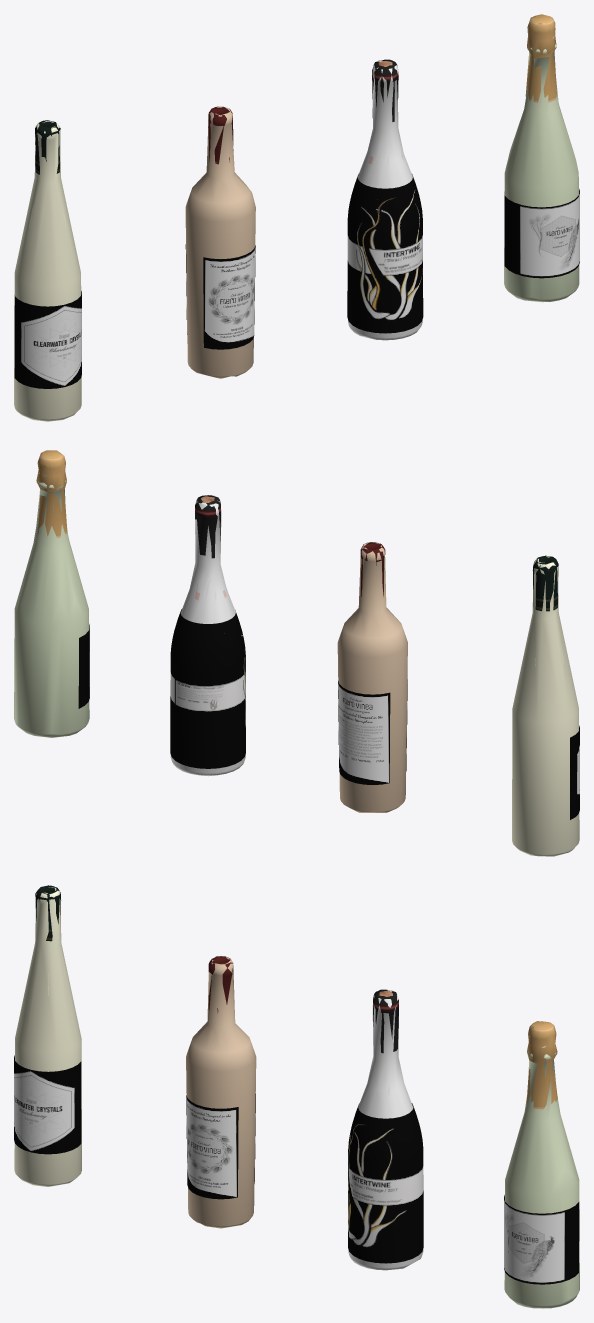
Rendered from wine_bottles_01.glb.
3 renders of one model, top to bottom at view 1: azimuth 30°, elevation 25°; view 2: azimuth 150°, elevation 25°; view 3: azimuth 330°, elevation 25°, orthographic.
Visible parts, largest first — view 1: wine_bottles_01_bordeaux, wine_bottles_01_burgundy, wine_bottles_01_alsace, wine_bottles_01_champagne; view 2: wine_bottles_01_bordeaux, wine_bottles_01_burgundy, wine_bottles_01_alsace, wine_bottles_01_champagne; view 3: wine_bottles_01_bordeaux, wine_bottles_01_burgundy, wine_bottles_01_alsace, wine_bottles_01_champagne.
Part boxes in pixels (left/top/right/bottom): wine_bottles_01_bordeaux: left=14, top=14, right=579, bottom=421; wine_bottles_01_burgundy: left=347, top=157, right=423, bottom=333; wine_bottles_01_alsace: left=14, top=291, right=81, bottom=388; wine_bottles_01_champagne: left=504, top=189, right=579, bottom=278; wine_bottles_01_bordeaux: left=14, top=450, right=579, bottom=856; wine_bottles_01_burgundy: left=170, top=587, right=245, bottom=768; wine_bottles_01_alsace: left=535, top=659, right=579, bottom=819; wine_bottles_01_champagne: left=78, top=624, right=89, bottom=708; wine_bottles_01_bordeaux: left=14, top=885, right=579, bottom=1308; wine_bottles_01_burgundy: left=348, top=1103, right=423, bottom=1263; wine_bottles_01_alsace: left=14, top=986, right=81, bottom=1154; wine_bottles_01_champagne: left=504, top=1195, right=579, bottom=1284.
Bounding box in the file's own units: 0.6763 × 0.3313 × 0.0801.
9 materials, 6 textured.
